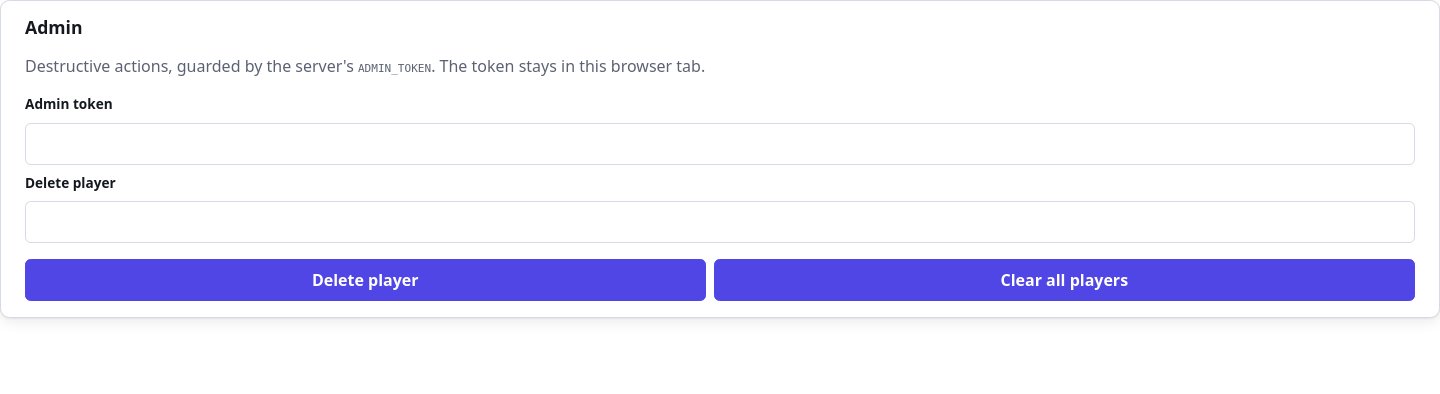
Test case: AdminPanel › reports a wrong token as unauthorized
In the password field labelled "Admin token": (720, 144) [25,122,1415,164], type "nope"
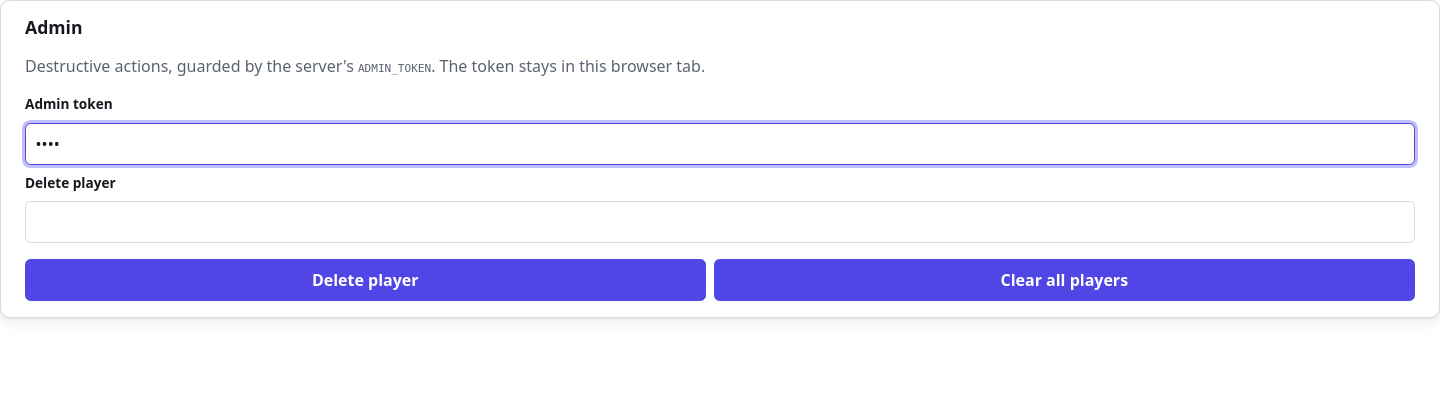
Click the button "Clear all players": (1064, 280) [714,259,1415,301]
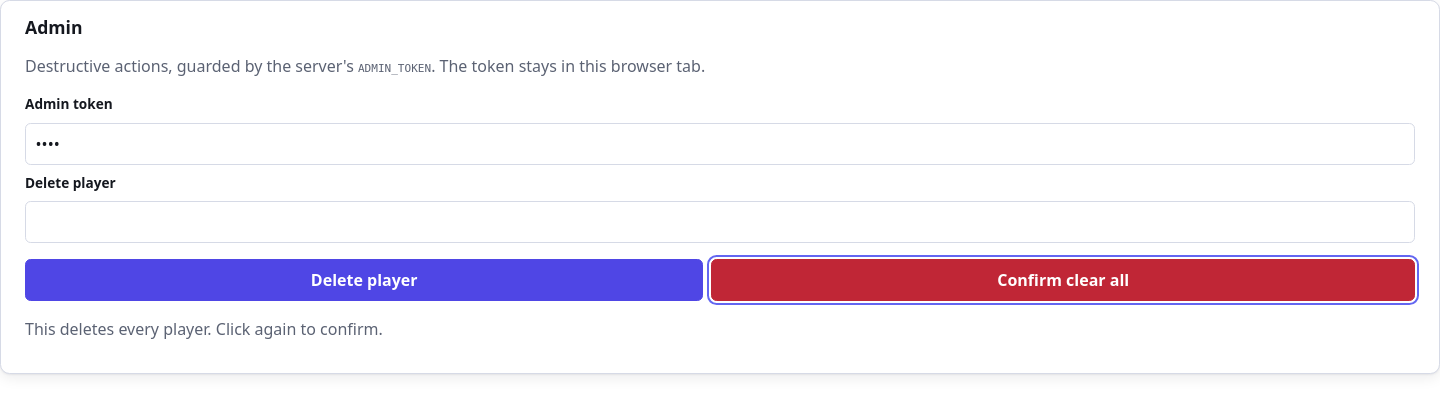
Click the button "Confirm clear all": (1063, 280) [711,259,1415,301]
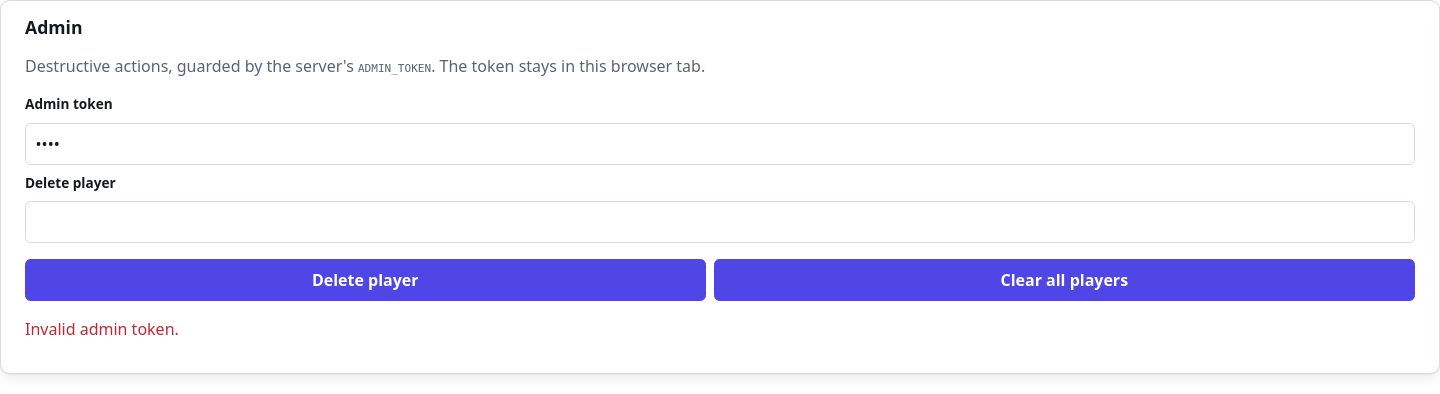
Now the message shows "Invalid admin token", box [25,318,179,340]
